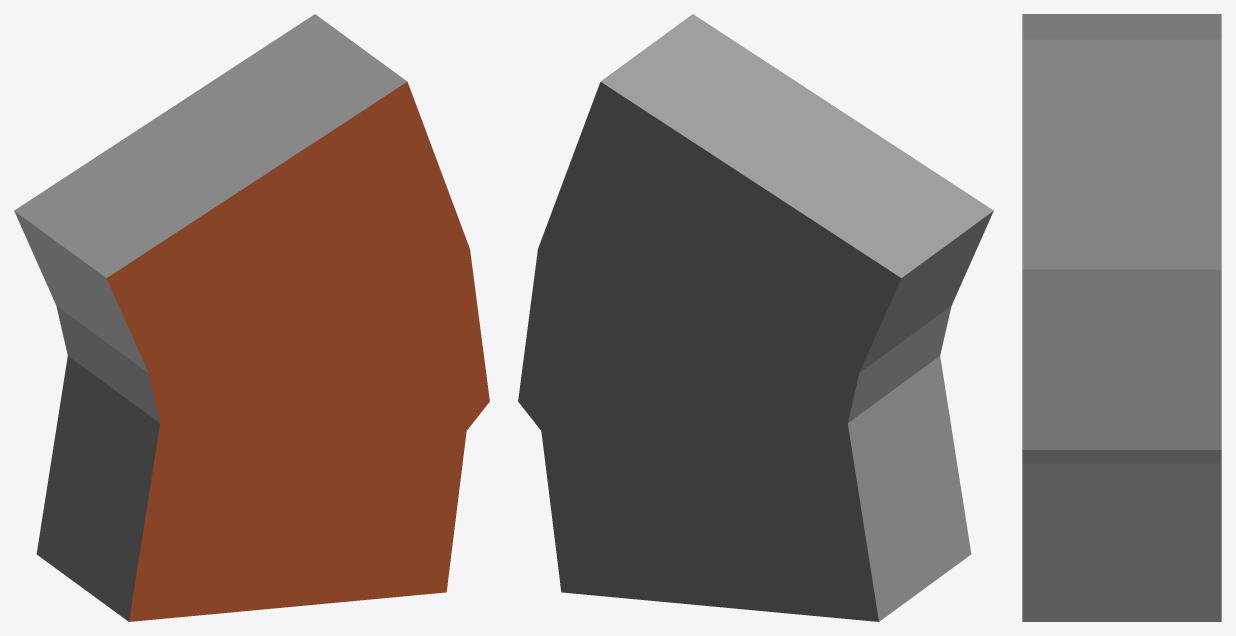
Rendered from construction_1346_assumed_A_Casa_h6m.obj.
3 views of the same model, side by side, from view 1: azimuth 30°, elevation 25°; view 2: azimuth 150°, elevation 25°; view 3: azimuth 270°, elevation 25° (orthographic). The views are drawn at different scales.
Visible parts, largest first — view 1: construction_1346_assumed_A_Casa; view 2: construction_1346_assumed_A_Casa; view 3: construction_1346_assumed_A_Casa.
Boxes of the visible parts, bbox=[...] form: construction_1346_assumed_A_Casa: bbox=[14, 14, 489, 621]; construction_1346_assumed_A_Casa: bbox=[518, 14, 993, 621]; construction_1346_assumed_A_Casa: bbox=[1022, 14, 1221, 621].
Bounding box in the file's own units: 14.38 × 18.64 × 6.
